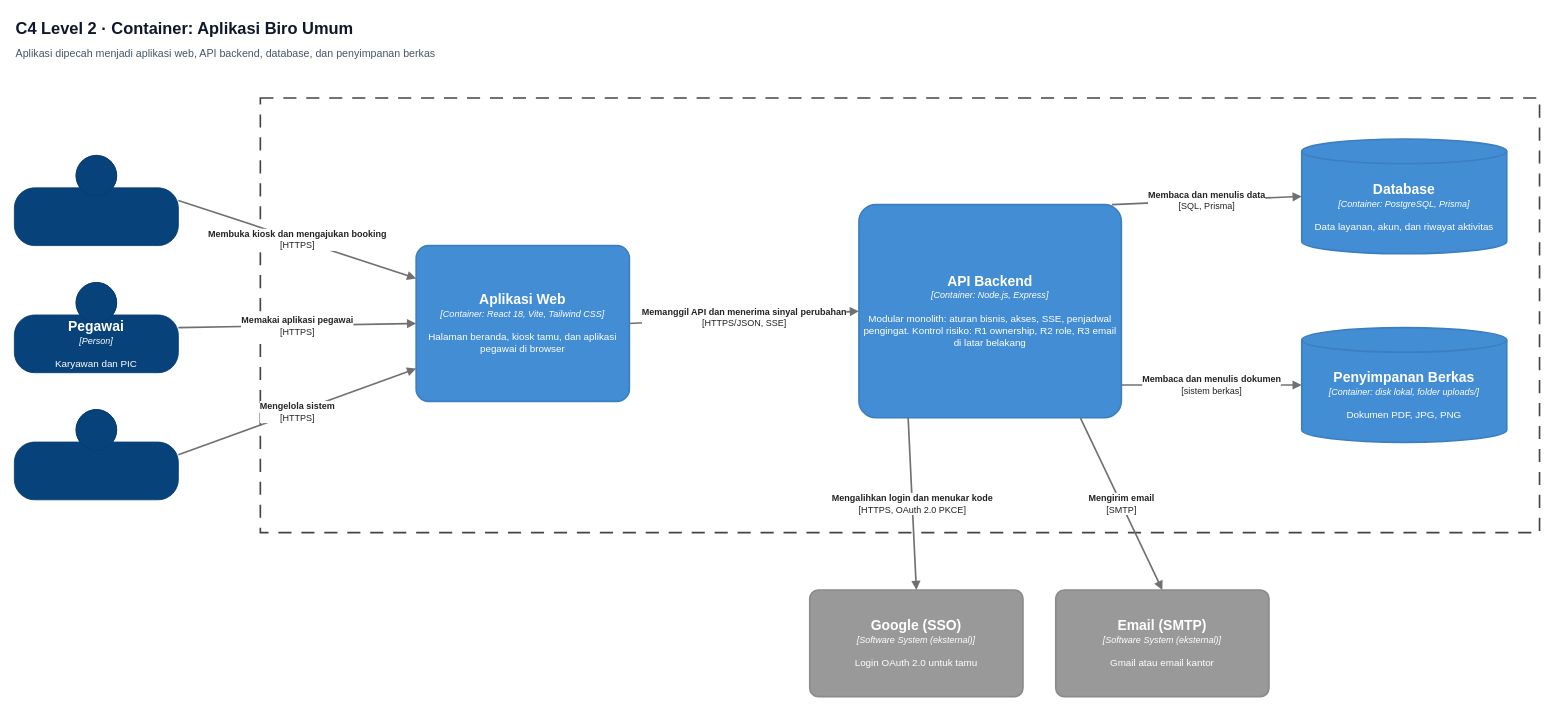
Some shapes in this 1555 by 711 pixel diagram are drawn without their labels. Each missing label, with the box of its shape:
Aplikasi Biro Umum [Software System]: (259, 97, 1540, 533)
Kabag / Admin [Person] Pengelola sistem: (14, 409, 178, 500)
Tamu [Person] Login Google di kiosk: (14, 155, 178, 246)
